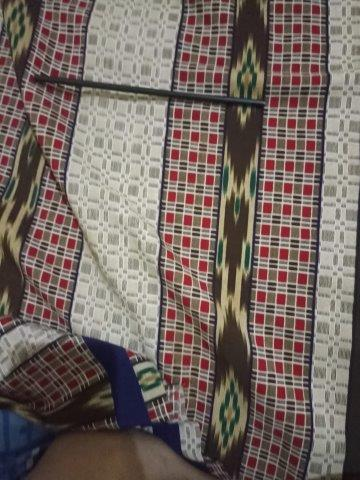sedotan: (34, 75, 265, 107)
